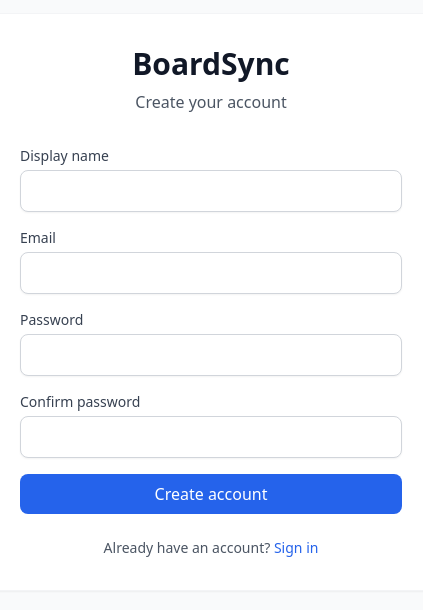
Scenario: RegisterPage › validates name, email and password length
This screenshot has width=423, height=610.
Type "bad" into the field labelled "Email" at (211, 273), box [20,252,402,294]
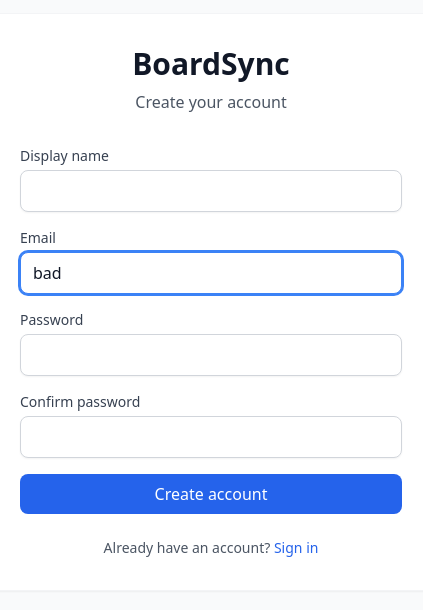
Type "short" into the password field labelled "Password" at (211, 355), box [20,334,402,376]
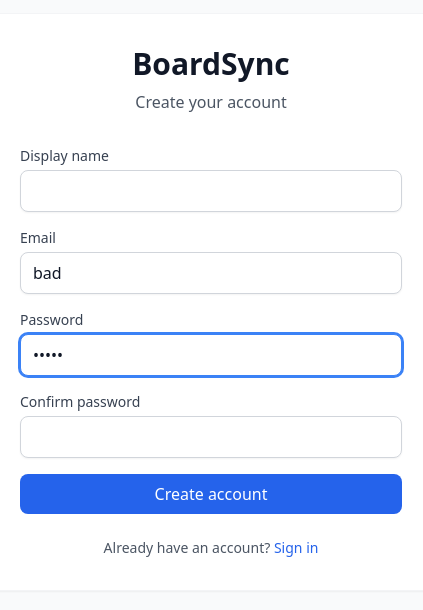
Click the button "Create account" at (211, 494), box [20,474,402,514]
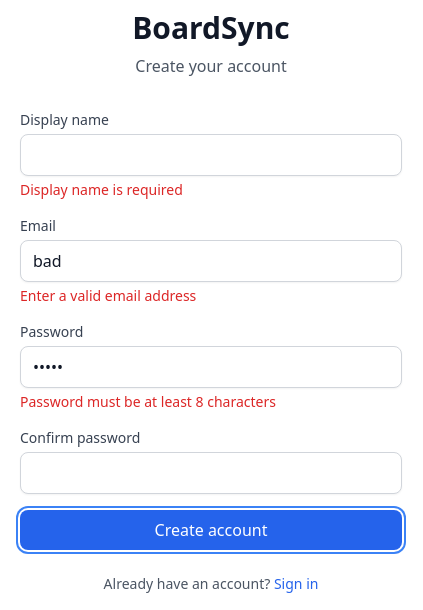
Result: the text "Display name is required" is shown at [20,180,183,199]
Result: the text "Enter a valid email address" is shown at [20,286,196,305]
Result: the text "Password must be at least 8 characters" is shown at [20,392,276,411]
